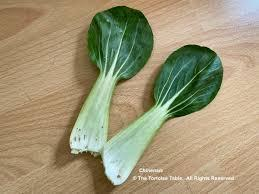Healthy-Pechay: (70, 4, 225, 185)
